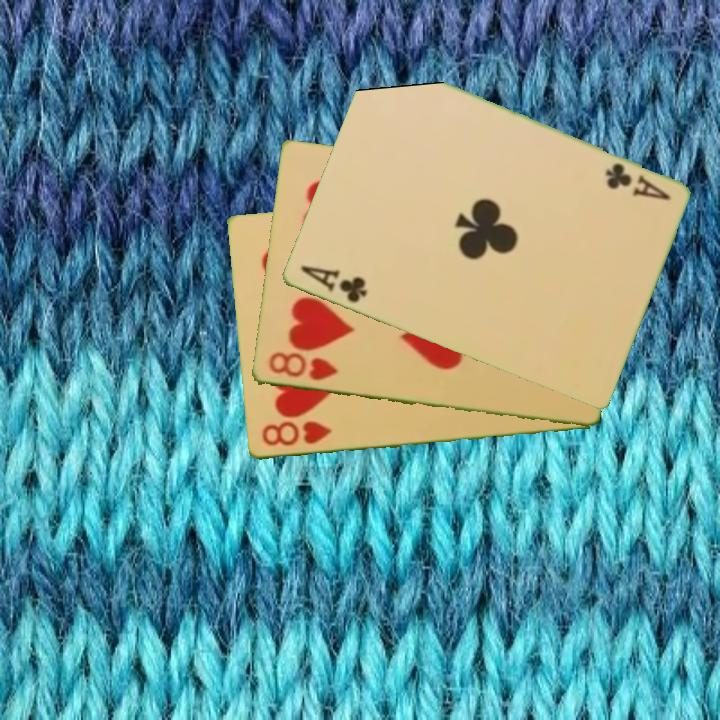8h: (264, 349, 340, 384), (258, 418, 334, 449)
Ac: (296, 262, 370, 307), (600, 159, 674, 204)
